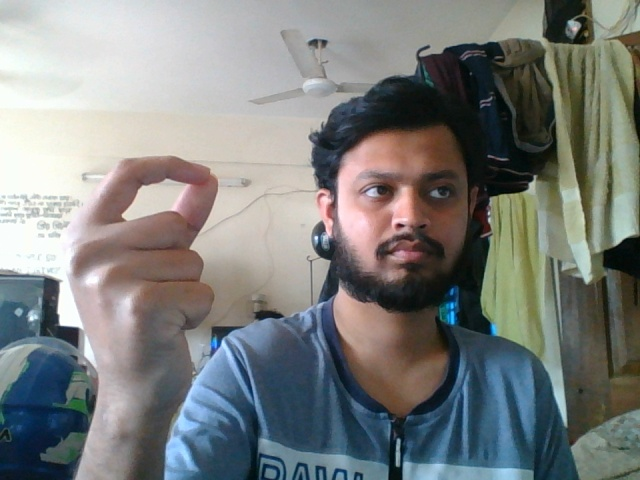gha: (61, 143, 233, 435)
